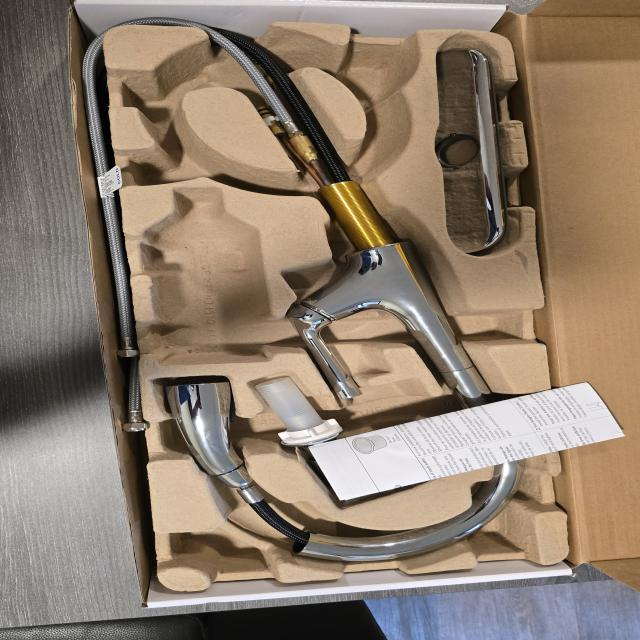1o: (164, 25, 529, 560)
2o: (250, 376, 456, 502)
3m: (138, 188, 269, 365)
4: (436, 48, 508, 254)
5m: (343, 48, 407, 101)
6m: (119, 51, 215, 116)
7m: (125, 122, 261, 188)
8: (307, 381, 627, 501)
